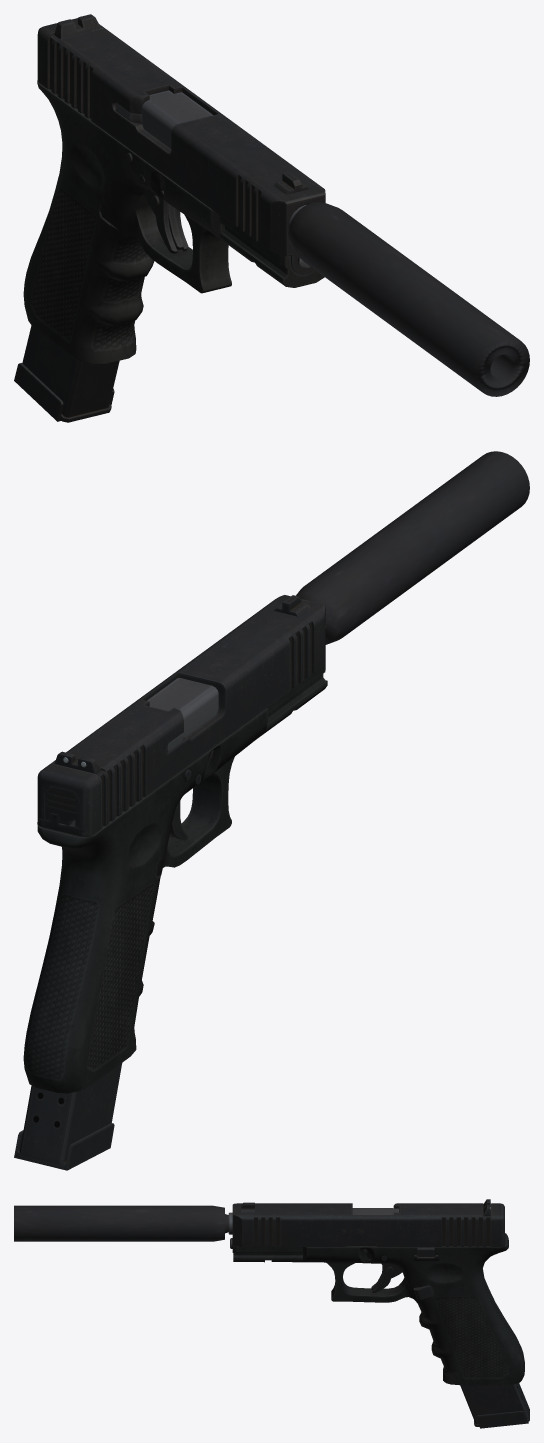
Rendered from pistol.glb.
3 views of the same model, one above another, from view 1: azimuth 30°, elevation 25°; view 2: azimuth 150°, elevation 25°; view 3: azimuth 270°, elevation 25° (orthographic). The views are drawn at different scales.
Visible parts, largest first — view 1: base_Mesh.004, slide_Mesh.009, Cylinder, mag_Mesh.006, trigger_Mesh.005; view 2: base_Mesh.004, slide_Mesh.009, Cylinder, mag_Mesh.006; view 3: base_Mesh.004, slide_Mesh.009, Cylinder, mag_Mesh.006, trigger_Mesh.005.
Boxes of the visible parts, bbox=[...] form: base_Mesh.004: bbox=[23, 80, 324, 363]; slide_Mesh.009: bbox=[37, 14, 325, 274]; Cylinder: bbox=[288, 202, 529, 396]; mag_Mesh.006: bbox=[14, 325, 119, 422]; trigger_Mesh.005: bbox=[145, 189, 188, 253]; base_Mesh.004: bbox=[23, 625, 327, 1093]; slide_Mesh.009: bbox=[37, 595, 325, 836]; Cylinder: bbox=[296, 451, 529, 644]; mag_Mesh.006: bbox=[14, 1063, 122, 1170]; base_Mesh.004: bbox=[228, 1202, 524, 1385]; slide_Mesh.009: bbox=[230, 1199, 504, 1252]; Cylinder: bbox=[14, 1205, 228, 1241]; mag_Mesh.006: bbox=[460, 1383, 529, 1428]; trigger_Mesh.005: bbox=[371, 1263, 402, 1292].
Bounding box in the file's own units: 0.0372 × 0.2177 × 0.4675.
2 materials, 2 textured.
